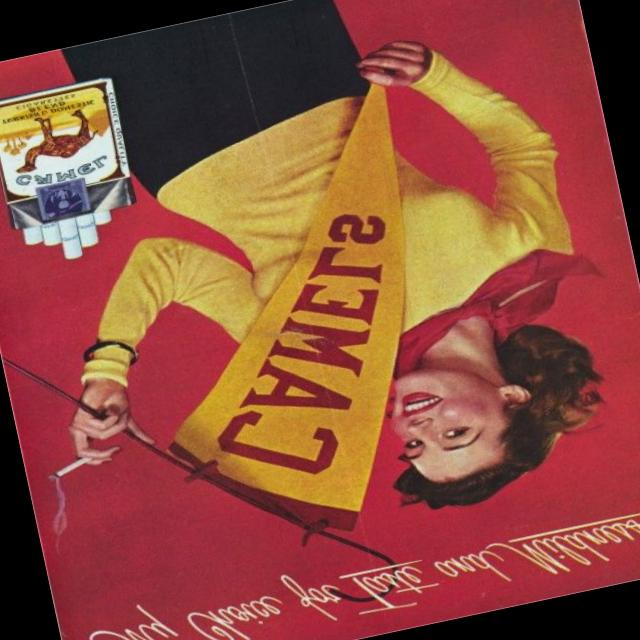smoke: (54, 454, 84, 480)
